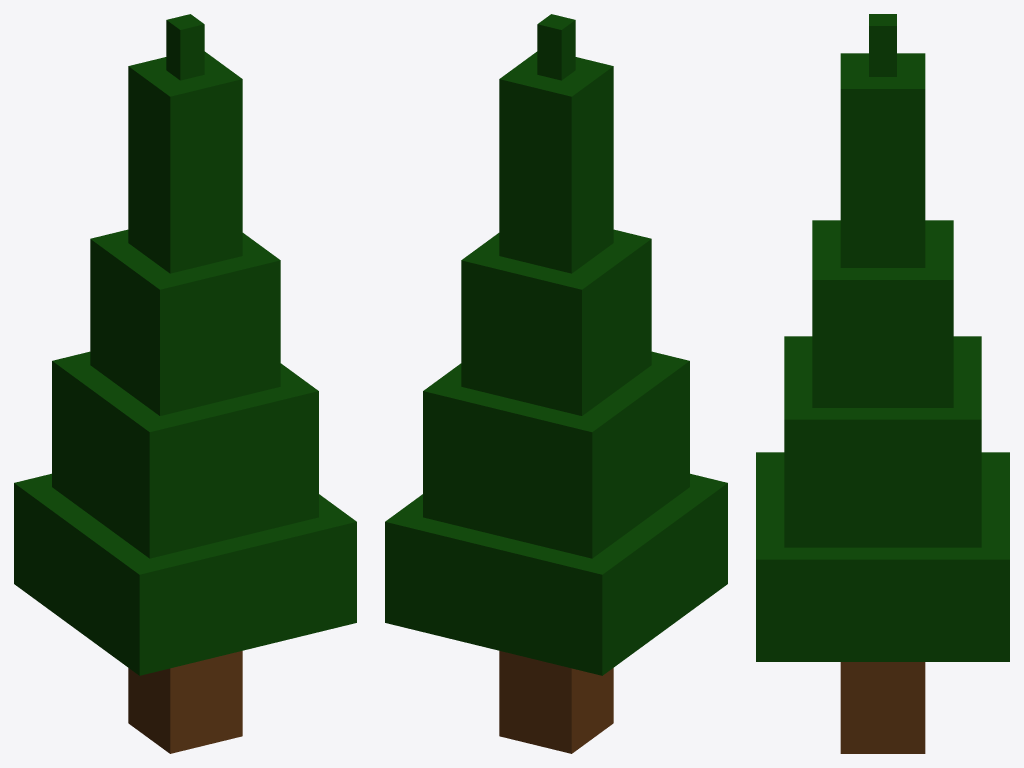
Rendered from Pine Tree(1) (Stage5).obj.
3 views of the same model, side by side, from view 1: azimuth 30°, elevation 25°; view 2: azimuth 150°, elevation 25°; view 3: azimuth 270°, elevation 25° (orthographic).
Size of the model in its own units: 0.9 by 2.8 by 0.9.
1 material, 1 textured.
